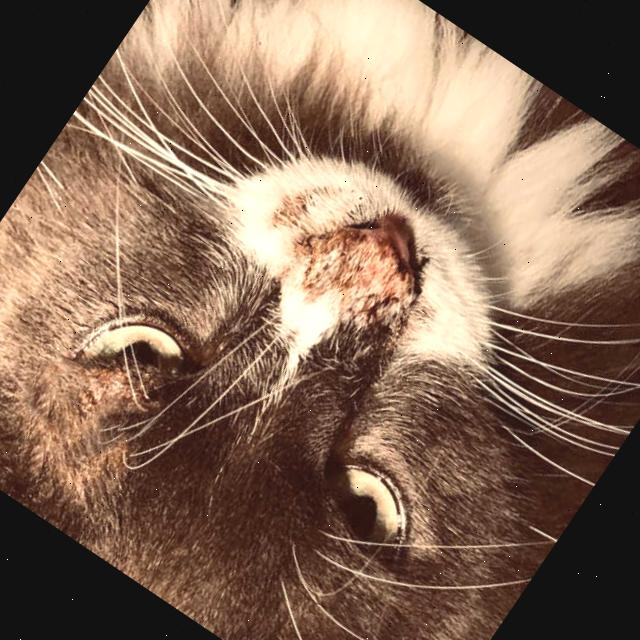cat-dermatitis: (306, 230, 420, 336)
